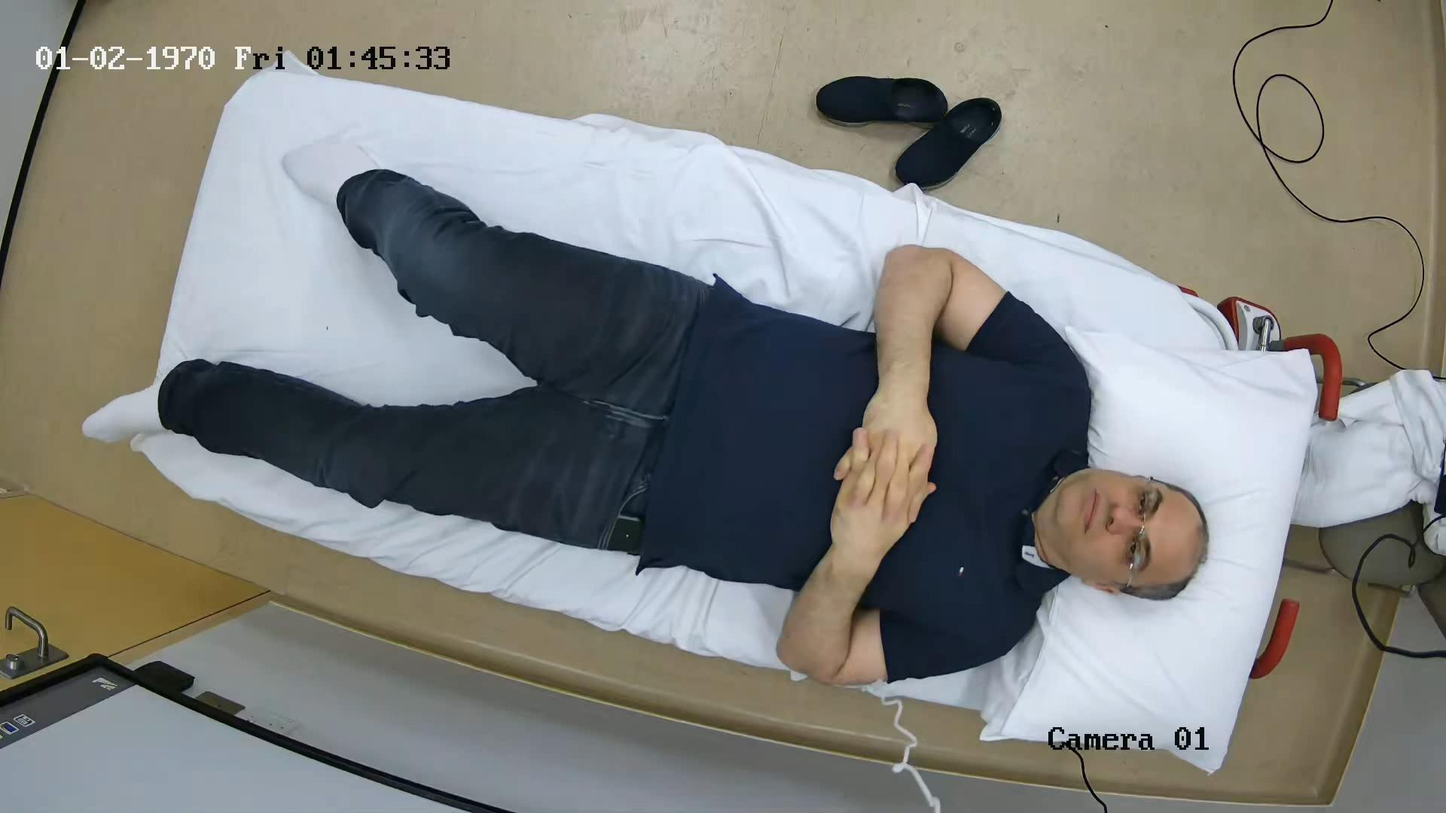bed: (134, 61, 1341, 772)
patient: (157, 169, 1209, 685)
